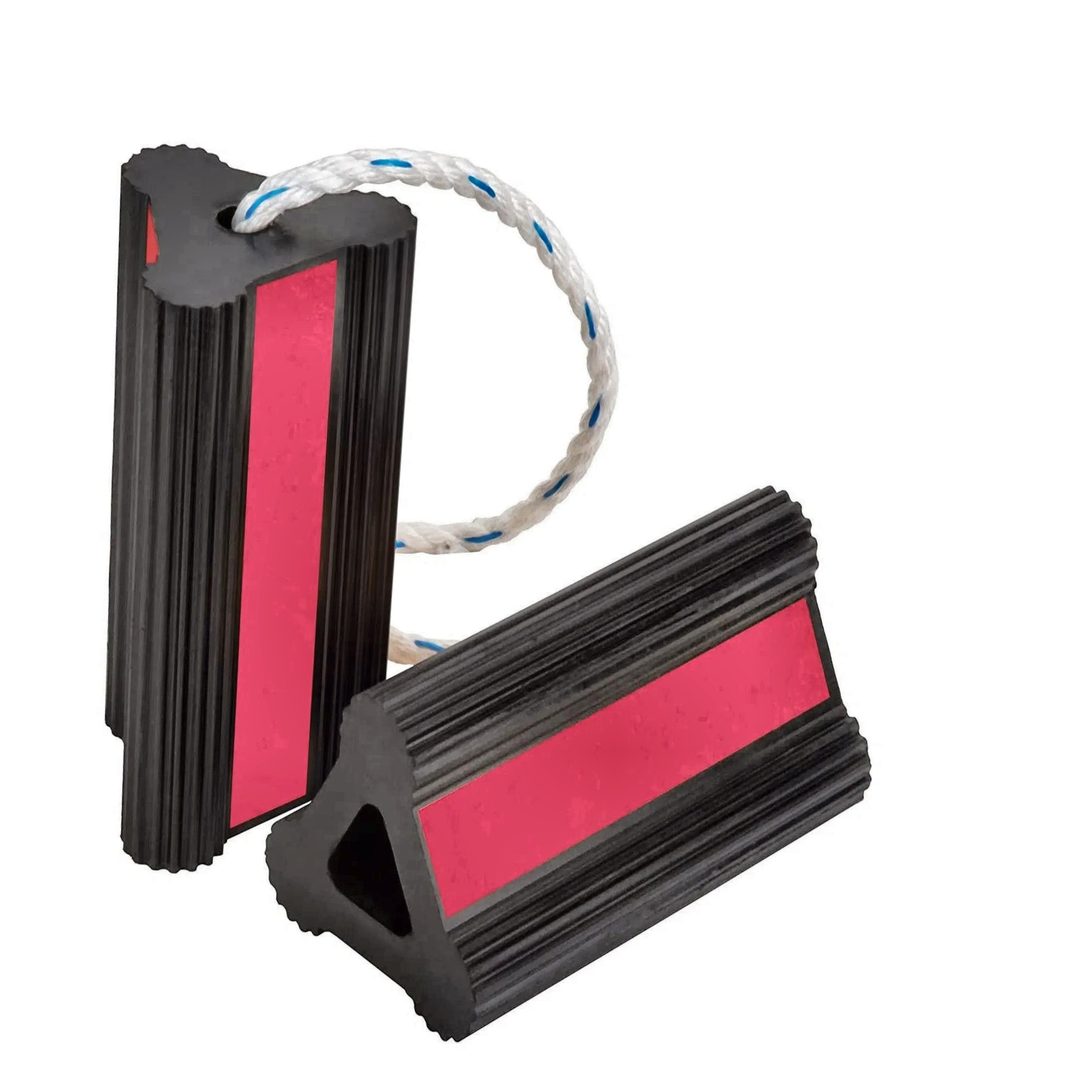chock: (253, 441, 895, 1076), (56, 129, 428, 888)
